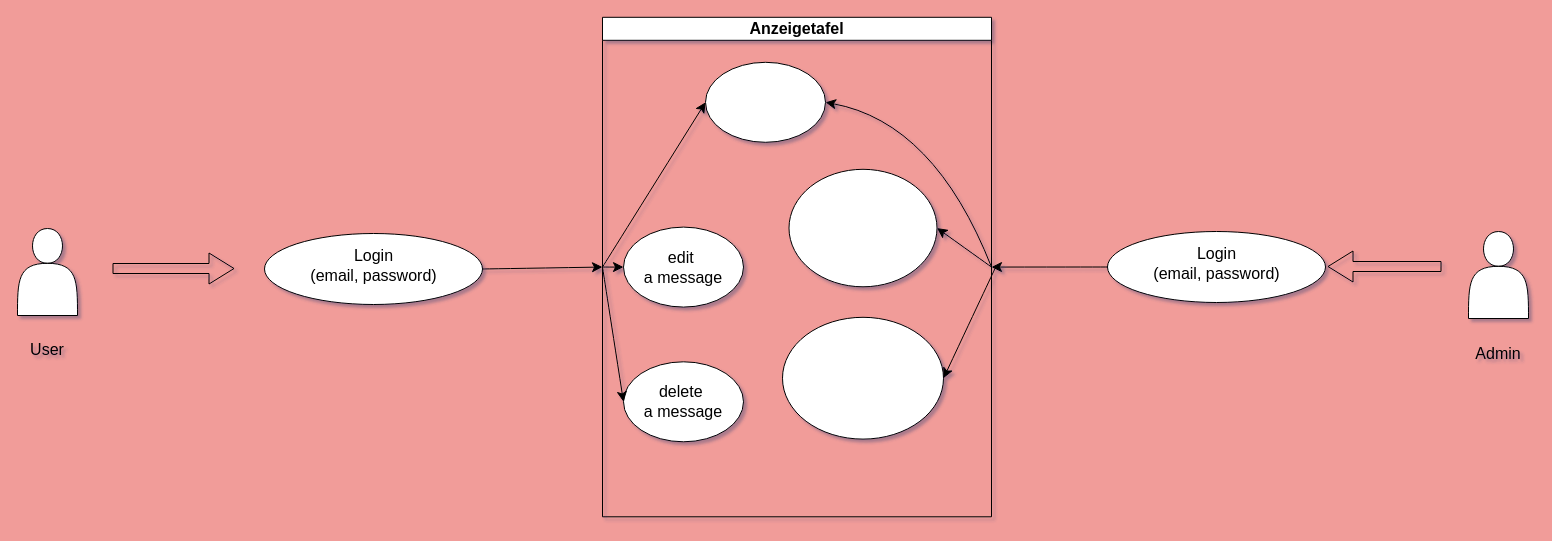
Image size: 1552x541. Some labels were removed from this diagram. The box of each missing label's shape, as (x1, y1, x2, y2) in pixels:
delete a messge or all messages: (782, 316, 944, 439)
edit a message or all messages: (788, 168, 937, 287)
publish a message: (704, 61, 826, 142)
